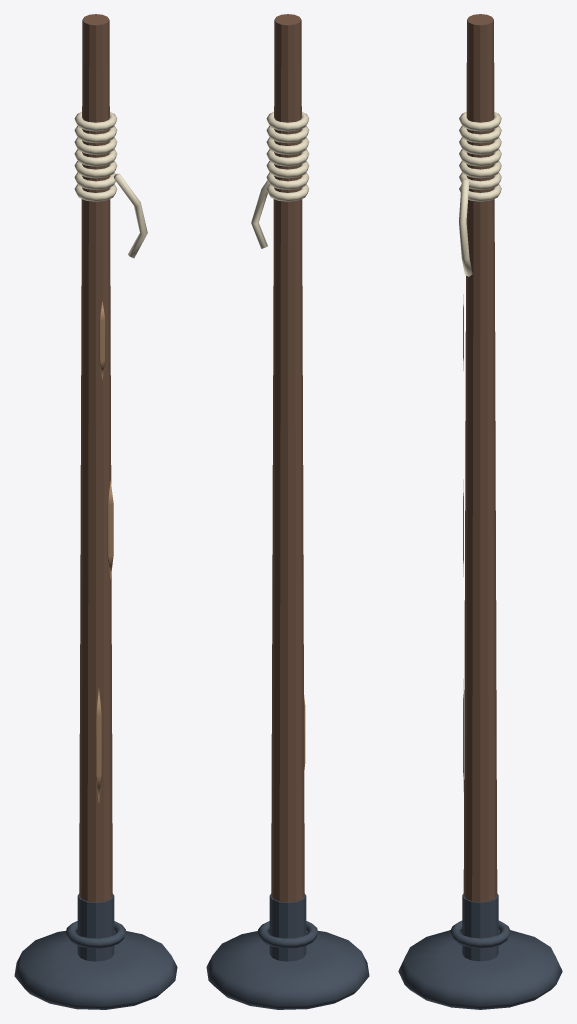
Rendered from oar.glb.
3 renders of one model, left to right at view 1: azimuth 30°, elevation 25°; view 2: azimuth 150°, elevation 25°; view 3: azimuth 270°, elevation 25°, orthographic.
Parts seen in each view (by area): view 1: Worn punting pole, Low iron pole stand, Iron pole ferrule, Stand pole socket, Loose rope end, Smoothed wood wear, Smoothed wood wear.001, Old rope around grip.006, Old rope around grip.005, Old rope around grip.004, Old rope around grip, Old rope around grip.002 (+3 smaller); view 2: Worn punting pole, Low iron pole stand, Iron pole ferrule, Stand pole socket, Loose rope end, Old rope around grip.006, Old rope around grip.005, Old rope around grip.004, Old rope around grip, Old rope around grip.001, Old rope around grip.002, Old rope around grip.003; view 3: Worn punting pole, Low iron pole stand, Iron pole ferrule, Stand pole socket, Loose rope end, Old rope around grip.006, Old rope around grip.003, Old rope around grip.002, Old rope around grip.004, Old rope around grip.005.
Boxes of the visible parts, x1,y1,x2,y2 form: Worn punting pole: (79,14,112,902); Low iron pole stand: (14,931,177,1009); Iron pole ferrule: (77,893,114,961); Stand pole socket: (66,921,125,948); Loose rope end: (113,173,147,258); Smoothed wood wear: (96,688,101,803); Smoothed wood wear.001: (107,481,113,579); Old rope around grip.006: (74,111,117,131); Old rope around grip.005: (74,125,117,143); Old rope around grip.004: (74,137,117,154); Old rope around grip: (74,184,117,201); Old rope around grip.002: (74,161,117,178); Worn punting pole: (271,14,304,902); Low iron pole stand: (206,931,369,1009); Iron pole ferrule: (269,893,306,961); Stand pole socket: (258,921,317,948); Loose rope end: (251,180,269,248); Old rope around grip.006: (266,111,309,131); Old rope around grip.005: (266,125,309,143); Old rope around grip.004: (266,137,309,154); Old rope around grip: (266,184,309,201); Old rope around grip.001: (266,172,309,189); Old rope around grip.002: (266,161,309,178); Old rope around grip.003: (266,149,309,166); Worn punting pole: (463,14,497,902); Low iron pole stand: (398,930,562,1009); Iron pole ferrule: (462,893,498,961); Stand pole socket: (450,920,510,948); Loose rope end: (459,180,472,276); Old rope around grip.006: (459,111,501,131); Old rope around grip.003: (459,149,501,166); Old rope around grip.002: (459,161,501,178); Old rope around grip.004: (459,137,501,154); Old rope around grip.005: (459,126,501,143).
Size of the model in its own units: 0.28 by 1.8 by 0.28.
